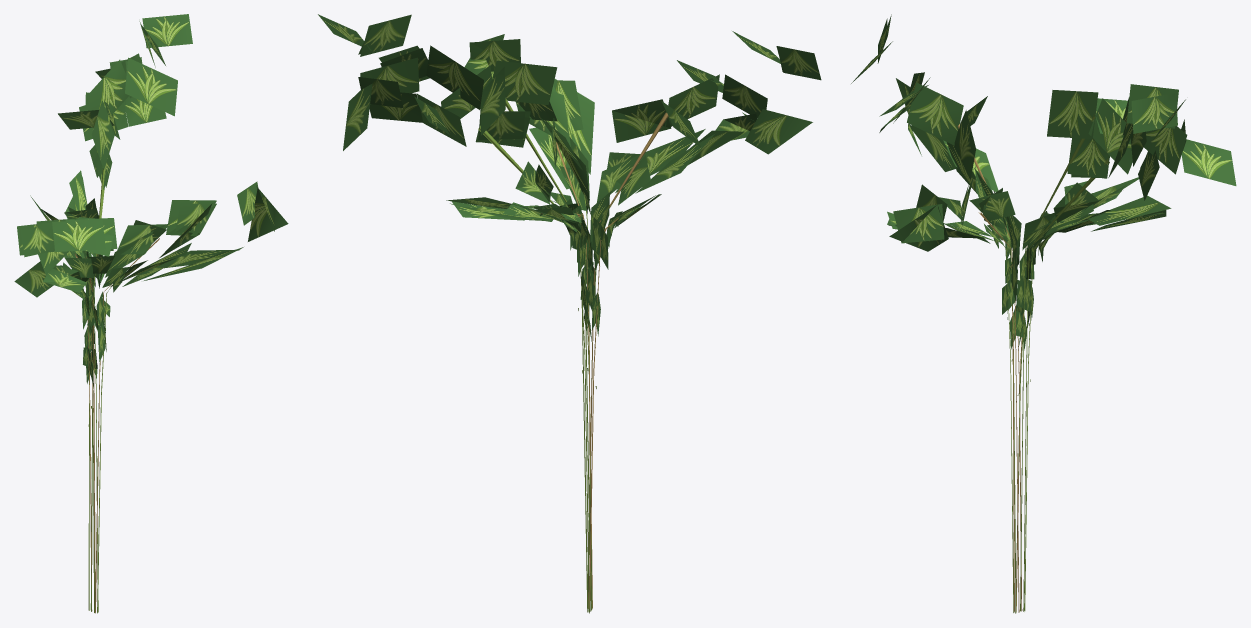
Rendered from tree-vn-bamboo-lod.glb.
3 renders of one model, left to right at view 1: azimuth 30°, elevation 25°; view 2: azimuth 150°, elevation 25°; view 3: azimuth 270°, elevation 25°, orthographic. The views are drawn at different scales.
Visible parts, largest first — view 1: tree-vn-bamboo-lod; view 2: tree-vn-bamboo-lod; view 3: tree-vn-bamboo-lod.
Boxes of the visible parts, left/top/right/bottom form: tree-vn-bamboo-lod: left=14, top=14, right=288, bottom=613; tree-vn-bamboo-lod: left=318, top=14, right=821, bottom=613; tree-vn-bamboo-lod: left=851, top=14, right=1236, bottom=613.
Size of the model in its own units: 4.82 by 8 by 4.77.
Materials: 4 (1 with a texture image).
